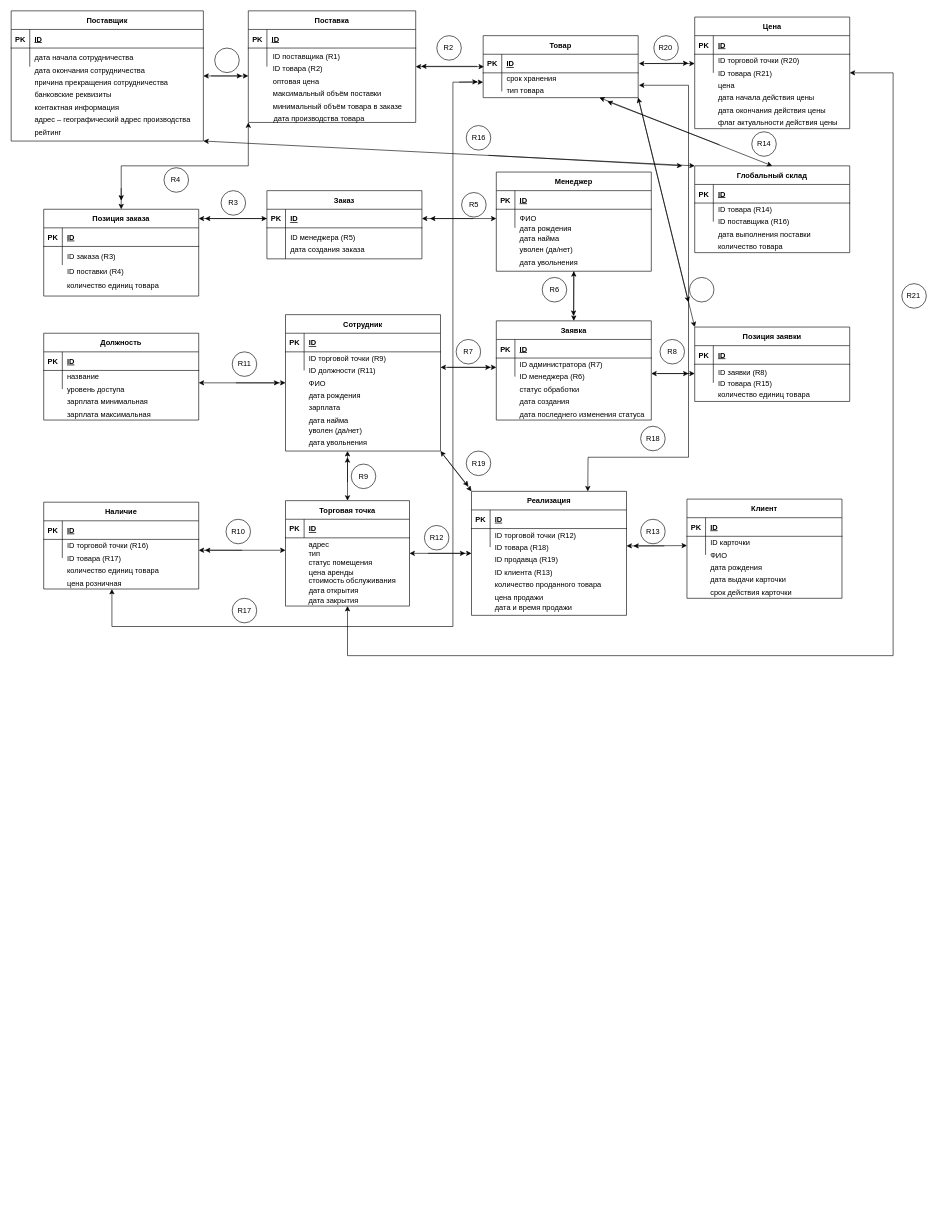
Image size: 939x1218. Some labels were removed from this diagram. The centre of each missing label's shape, as x and y in pixels:
R1: the point at 226,60
R15: the point at 701,289
